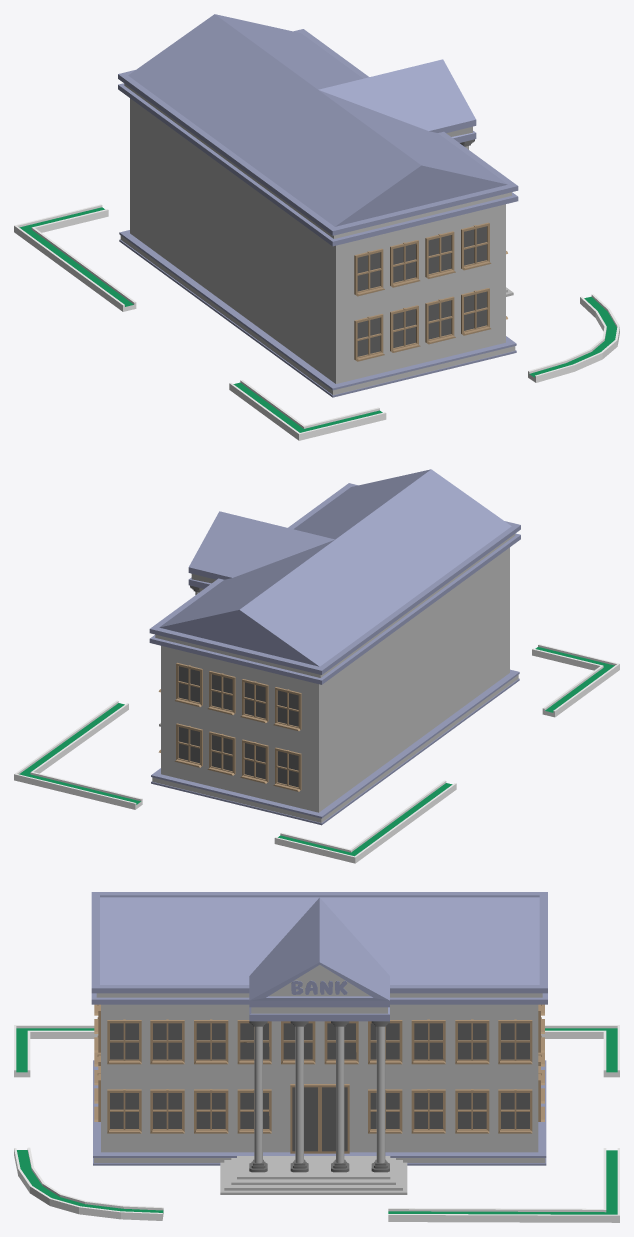
Rendered from Bank.fbx.
3 renders of one model, top to bottom at view 1: azimuth 30°, elevation 25°; view 2: azimuth 150°, elevation 25°; view 3: azimuth 270°, elevation 25°, orthographic. The views are drawn at different scales.
Visible parts, largest first — view 1: Big Tree Pot_3_Color_0; view 2: Big Tree Pot_3_Color_0; view 3: Big Tree Pot_3_Color_0.
Part boxes in pixels (box(x1,y1,x2,y2)): Big Tree Pot_3_Color_0: box(14, 14, 619, 440); Big Tree Pot_3_Color_0: box(14, 469, 619, 863); Big Tree Pot_3_Color_0: box(14, 892, 619, 1222).
Bounding box in the file's own units: 3235 × 1743 × 4343.
1 material, 1 textured.
